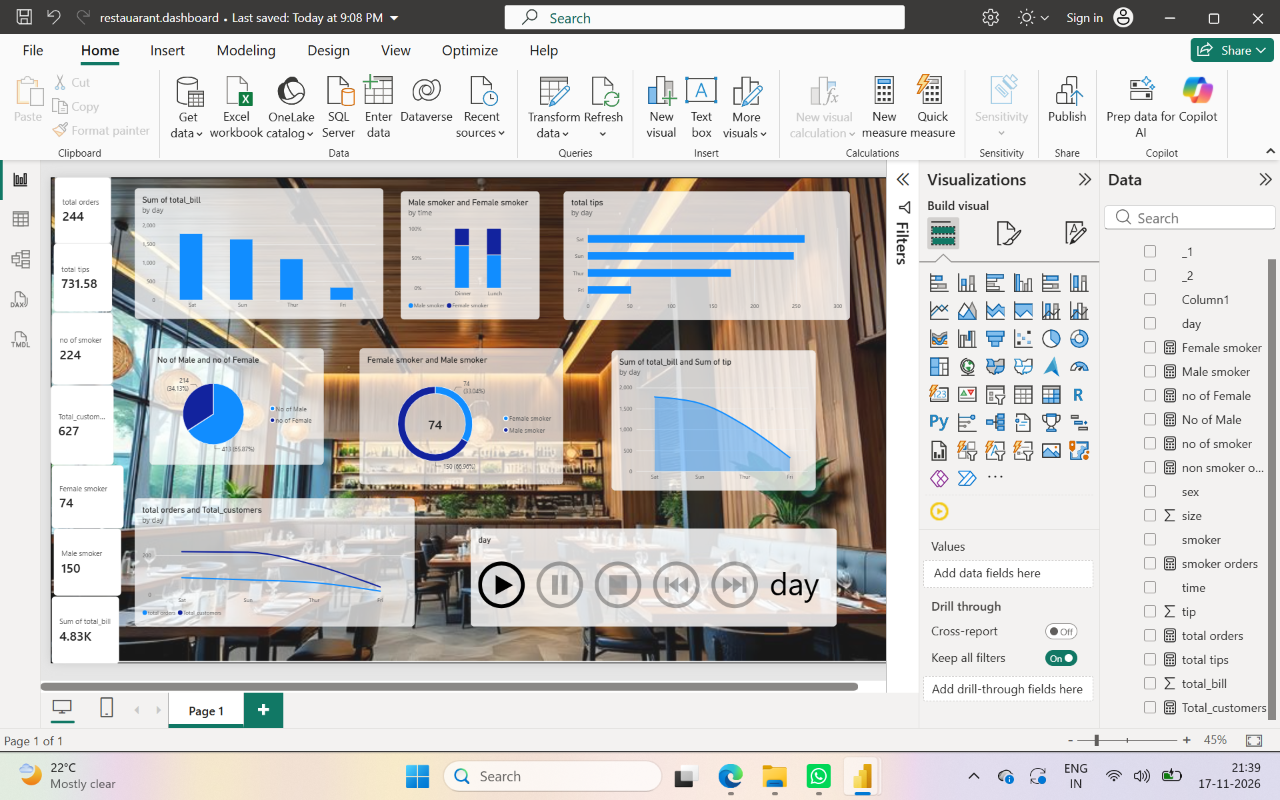

Layout of this report page (visuals, bound fields, positions):
{"tool":"powerbi","page":{"name":"Page 1","canvas":[1920,1080],"ordinal":0},"visuals":[{"type":"cardVisual","fields":{"Data":["restuarant.total orders"]},"box":[8.7,0,125,147.5],"z":0},{"type":"cardVisual","fields":{"Data":["restuarant.total tips"]},"box":[7.5,147.5,130,152.5],"z":1},{"type":"cardVisual","fields":{"Data":["restuarant.Total_customers"]},"box":[0,462.5,140,177.5],"z":2},{"type":"cardVisual","fields":{"Data":["restuarant.Female smoker"]},"box":[2.5,640,160,140],"z":4},{"type":"cardVisual","fields":{"Data":["restuarant.no of smoker"]},"box":[2.5,300,137.5,162.5],"z":5},{"type":"pieChart","fields":{"Y":["restuarant.No of Male","restuarant.no of Female"]},"box":[219.6,380.4,387,258.7],"z":6},{"type":"hundredPercentStackedColumnChart","fields":{"Category":["restuarant.time"],"Y":["restuarant.Male smoker","restuarant.Female smoker"]},"box":[778.3,30.4,308.7,284.8],"z":7},{"type":"donutChart","fields":{"Y":["restuarant.Female smoker","restuarant.Male smoker"]},"box":[687,380.4,452.2,302.2],"z":8},{"type":"clusteredColumnChart","fields":{"Category":["restuarant.day"],"Y":["Sum(restuarant.total_bill)"]},"box":[187.5,25,552.5,290],"z":9},{"type":"cardVisual","fields":{"Data":["restuarant.Male smoker"]},"box":[7.5,780,150,150],"z":10},{"type":"cardVisual","fields":{"Data":["Sum(restuarant.total_bill)"]},"box":[2.5,930,150,150],"z":11},{"type":"lineChart","fields":{"Category":["restuarant.day"],"Y":["restuarant.total orders","restuarant.Total_customers"]},"box":[186.7,713.3,621.7,284.8],"z":12},{"type":"barChart","fields":{"Category":["restuarant.day"],"Y":["restuarant.total tips"]},"box":[1140,30,636,286],"z":13},{"type":"areaChart","fields":{"Category":["restuarant.day"],"Y":["Sum(restuarant.total_bill)"]},"box":[1246.7,384.4,453.3,311.1],"z":14},{"type":"PBI_CV_16948668_E17D_454B_8664_2F2C470EA8C1","fields":{"category":["restuarant.day"]},"box":[933.3,780,813.3,217.8],"z":15}]}

Visuals, with their boxes on the page's 1920x1080 design canvas (x1, y1, x2, y2). These are canvas units, not pixel positions in the 1280x800 screenshot, which may show the page scaled, cropped or inside an application window:
cardVisual - restuarant.total orders: (9, 0, 134, 148)
cardVisual - restuarant.total tips: (8, 148, 138, 300)
cardVisual - restuarant.Total_customers: (0, 462, 140, 640)
cardVisual - restuarant.Female smoker: (2, 640, 162, 780)
cardVisual - restuarant.no of smoker: (2, 300, 140, 462)
pieChart - restuarant.No of Male x restuarant.no of Female: (220, 380, 607, 639)
hundredPercentStackedColumnChart - restuarant.time x restuarant.Male smoker: (778, 30, 1087, 315)
donutChart - restuarant.Female smoker x restuarant.Male smoker: (687, 380, 1139, 683)
clusteredColumnChart - restuarant.day x Sum(restuarant.total_bill): (188, 25, 740, 315)
cardVisual - restuarant.Male smoker: (8, 780, 158, 930)
cardVisual - Sum(restuarant.total_bill): (2, 930, 152, 1080)
lineChart - restuarant.day x restuarant.total orders: (187, 713, 808, 998)
barChart - restuarant.day x restuarant.total tips: (1140, 30, 1776, 316)
areaChart - restuarant.day x Sum(restuarant.total_bill): (1247, 384, 1700, 696)
PBI_CV_16948668_E17D_454B_8664_2F2C470EA8C1 - restuarant.day: (933, 780, 1747, 998)
